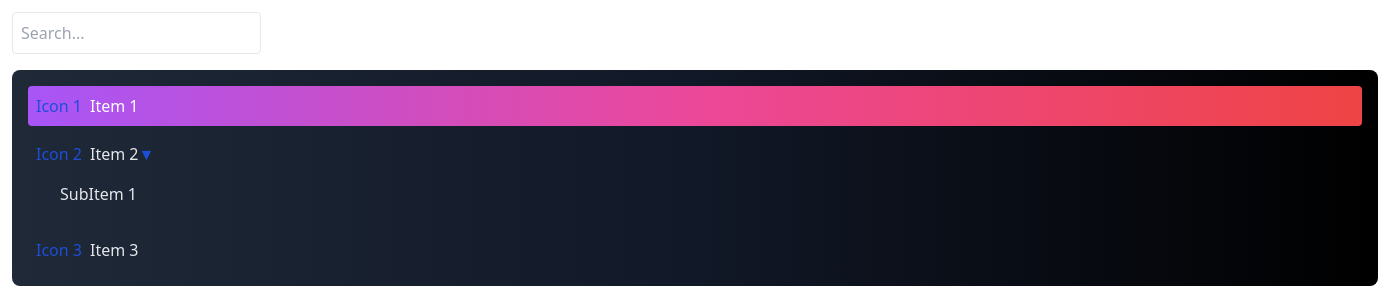
Scenario: VerticalMenu Component › handles collapse/expand functionality correctly
Click the text "▼". click: (146, 154)
box: [138,142,154,166]
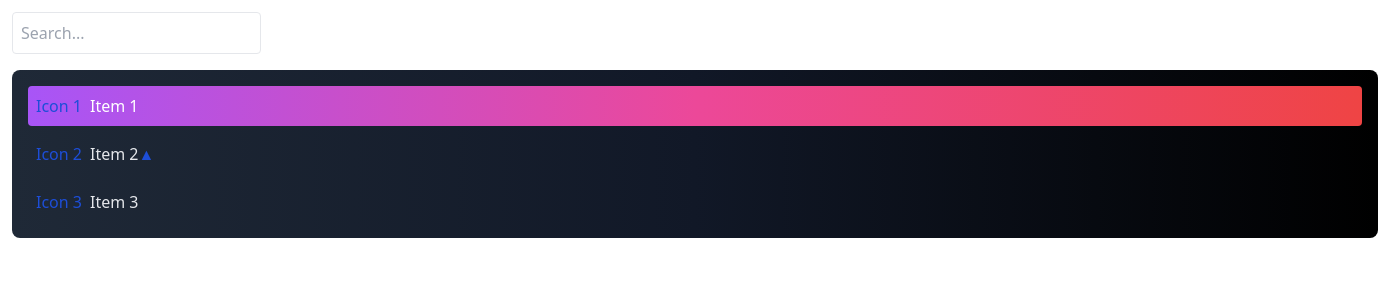
Expected: the button "SubItem 1" is gone
Click the text "▼". click: (146, 154)
box: [138,142,154,166]
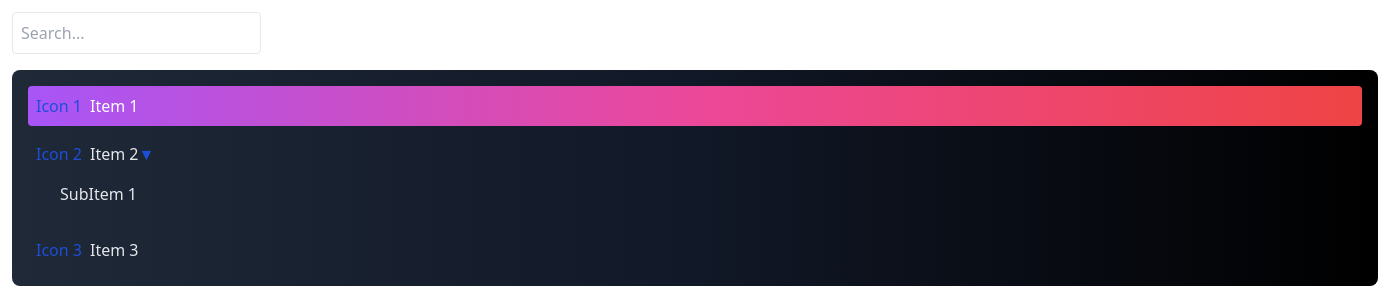
Expected: the text "SubItem 1" is shown, [60,182,137,206]
